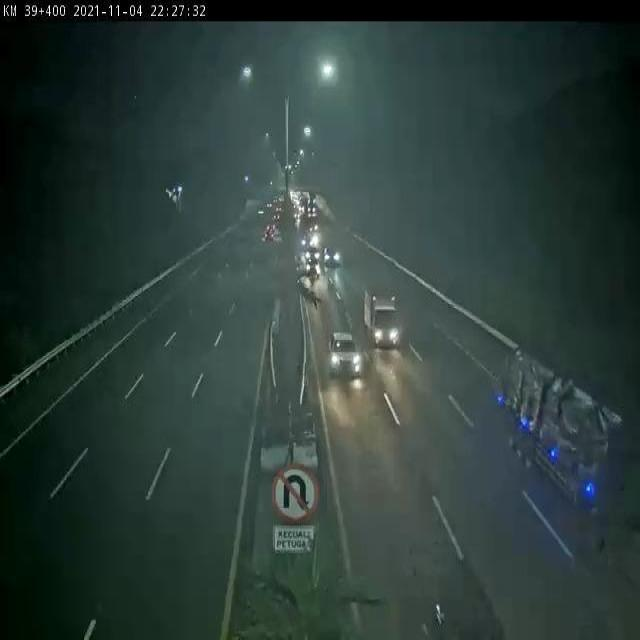ARABA: (331, 331, 361, 377)
KAMYONET: (364, 287, 399, 345)
TIR: (501, 341, 640, 559)
